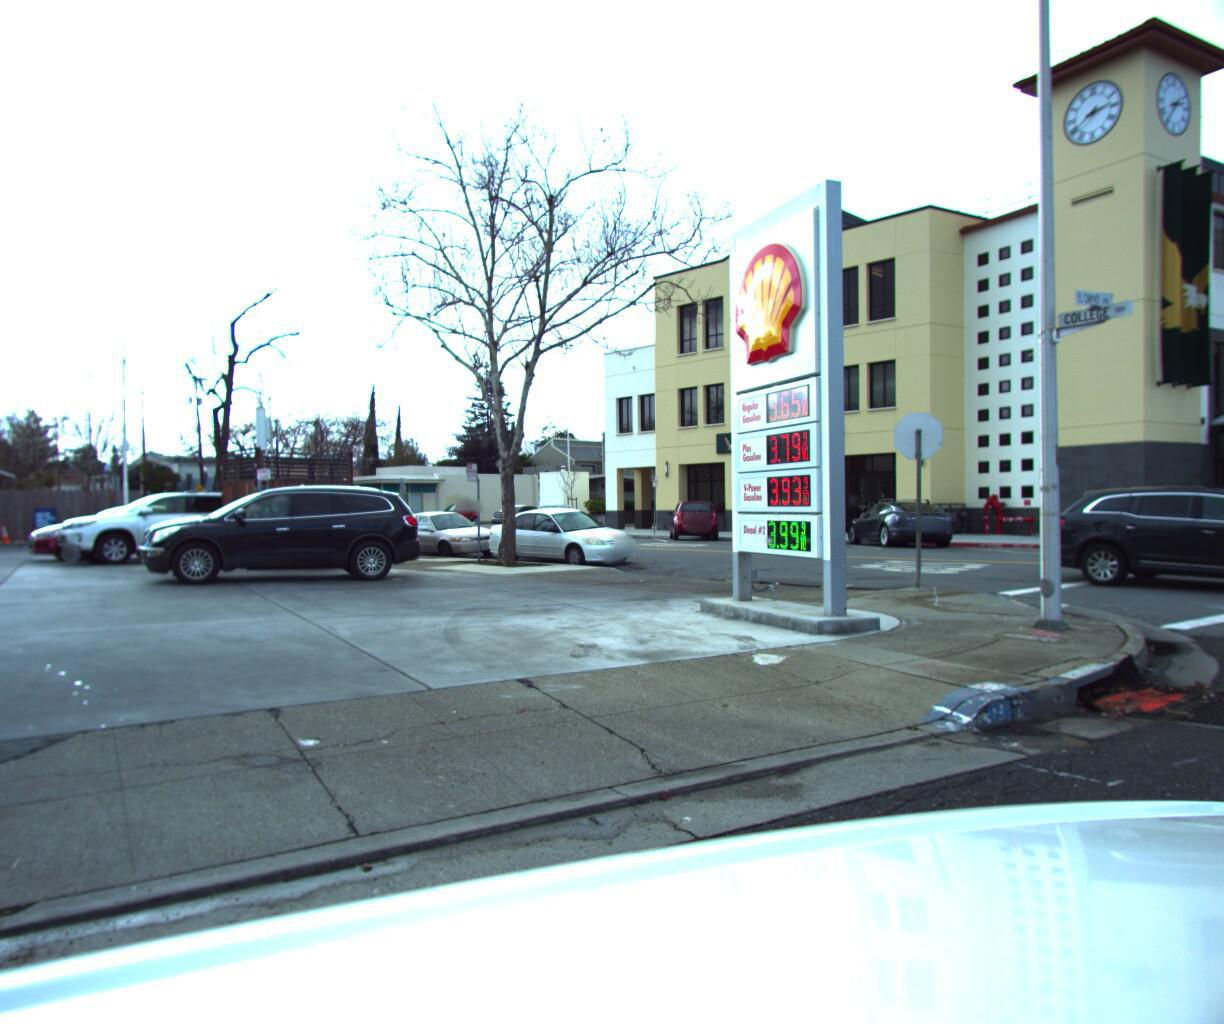car: (124, 476, 434, 594), (1042, 472, 1224, 603), (47, 487, 287, 570), (19, 501, 234, 567), (483, 502, 654, 568), (842, 489, 971, 548), (378, 506, 515, 560), (668, 496, 725, 539), (487, 502, 564, 528), (433, 501, 499, 523)
